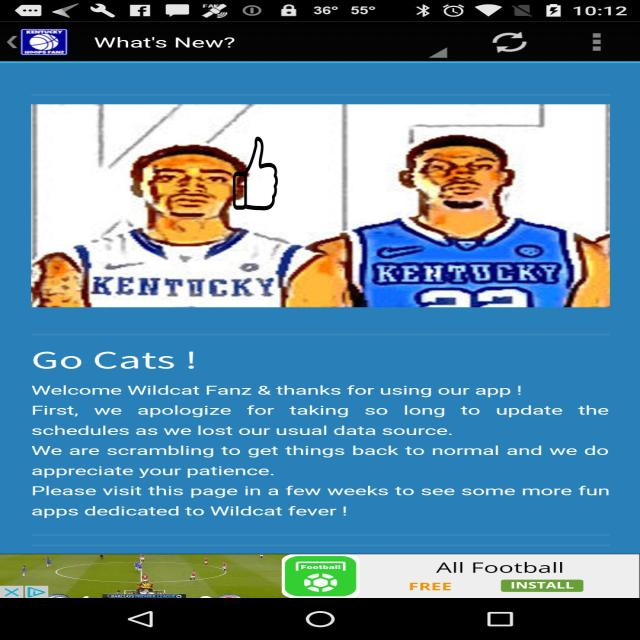privacy zuckering: (232, 137, 278, 210)
